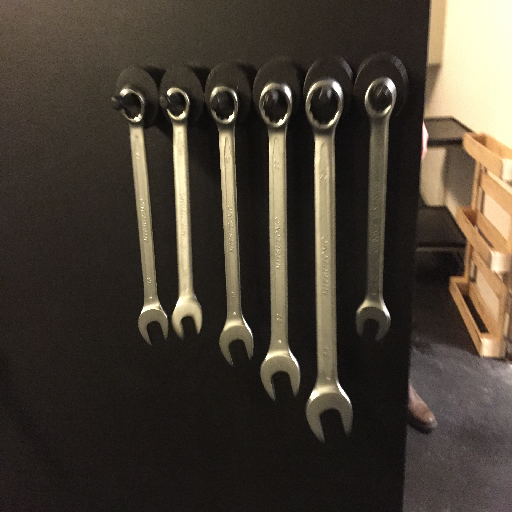bottom: (306, 384, 356, 443), (258, 349, 303, 402), (353, 295, 392, 344), (218, 320, 256, 367), (135, 302, 170, 344), (171, 296, 204, 340)
top: (303, 77, 346, 136), (257, 80, 296, 130), (363, 74, 398, 120), (116, 84, 150, 126), (208, 83, 241, 126), (161, 85, 194, 124)
